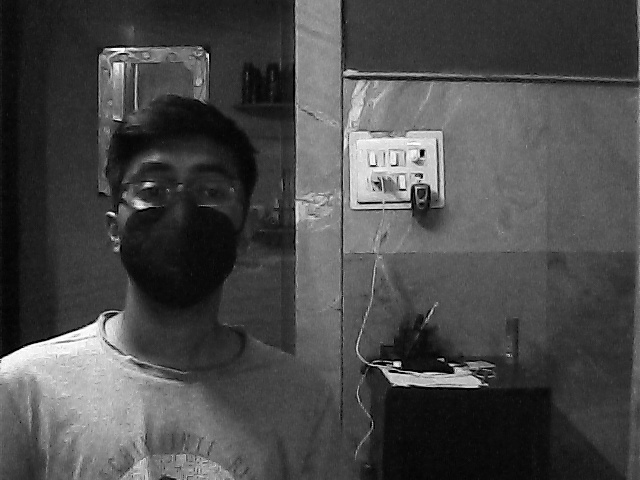mask: (115, 143, 245, 316)
